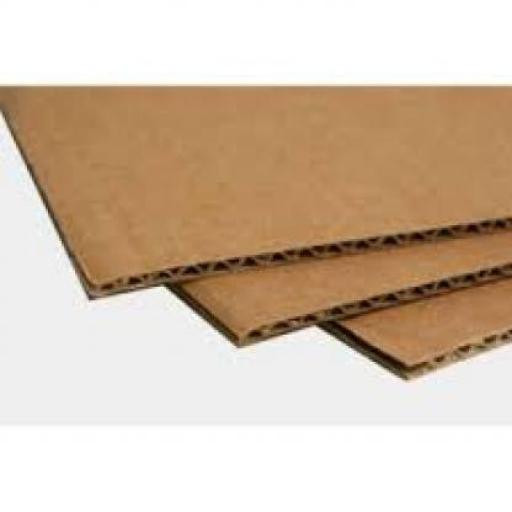cardboard: (0, 84, 510, 298), (161, 230, 510, 346), (316, 274, 510, 380)
